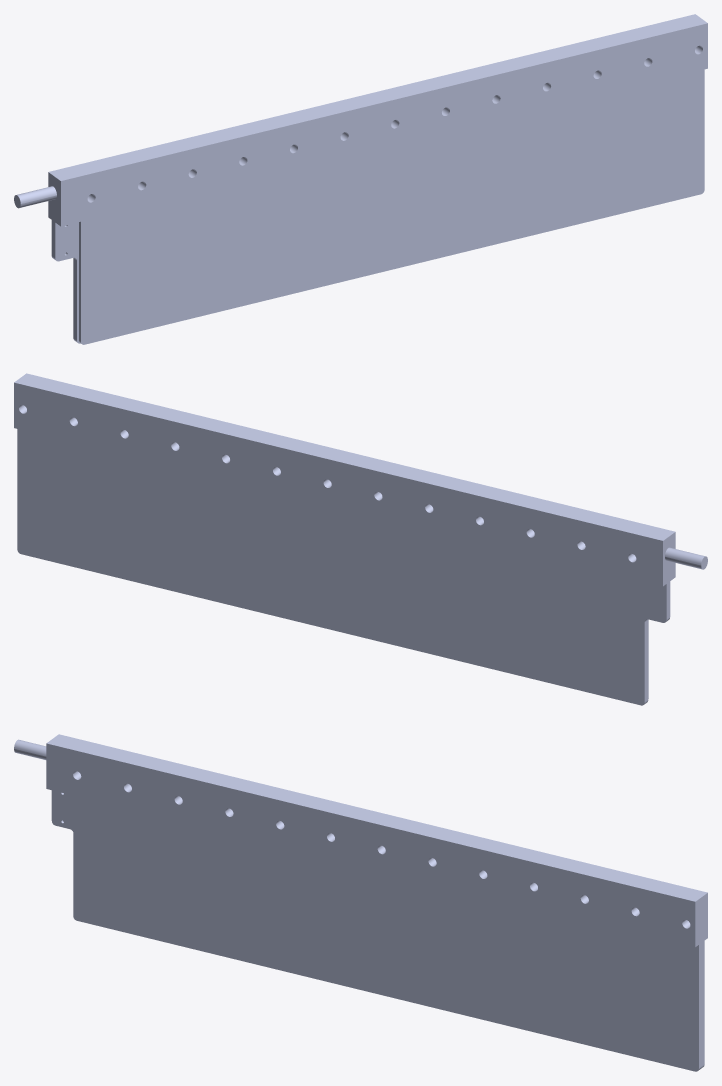
The model's file is MUB-12.glb.
3 views of the same model, one above another, from view 1: azimuth 30°, elevation 25°; view 2: azimuth 150°, elevation 25°; view 3: azimuth 330°, elevation 25° (orthographic).
Parts seen in each view (by area): view 1: MUB-12_node_1; view 2: MUB-12_node_1; view 3: MUB-12_node_1.
Boxes of the visible parts, <box> form: MUB-12_node_1: <box>14,14,707,344</box>; MUB-12_node_1: <box>14,373,707,705</box>; MUB-12_node_1: <box>14,734,707,1071</box>.
Size of the model in its own units: 378 by 91.3 by 12.
